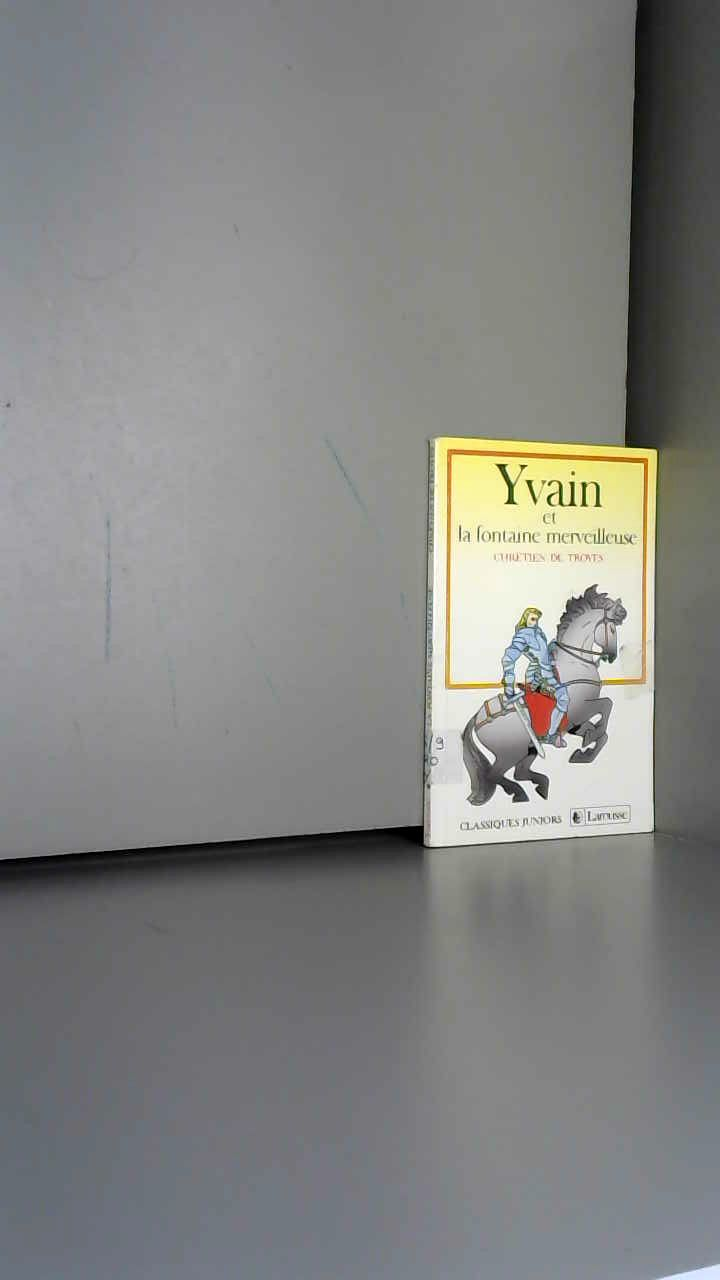book: (400, 410, 716, 922)
